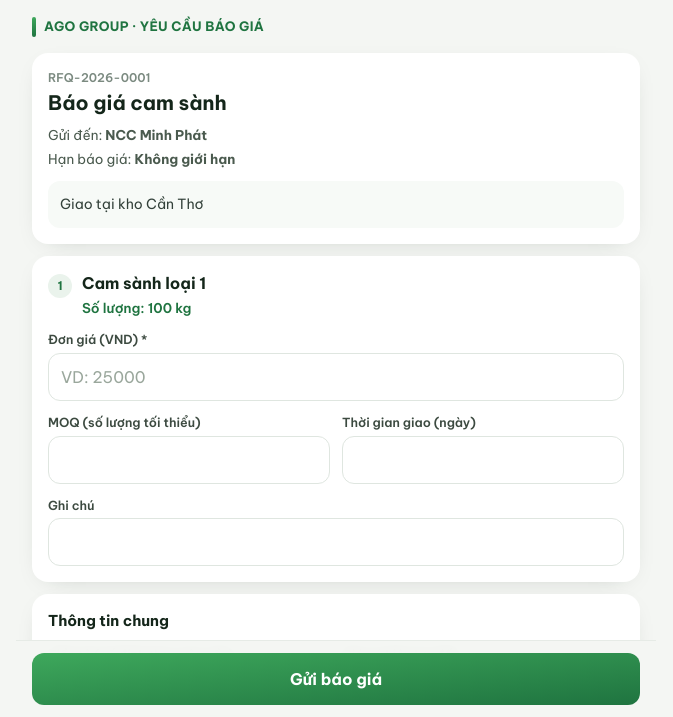
Test: PublicQuotePage › nhập giá, gửi thành công: POST đúng payload và hiện phiên bản
Check: the heading "Báo giá cam sành" is shown, box [48,90,227,115]
Step 1. Type "25000" into the field with placeholder "VD: 25000" → (336, 377), box [48,353,624,401]
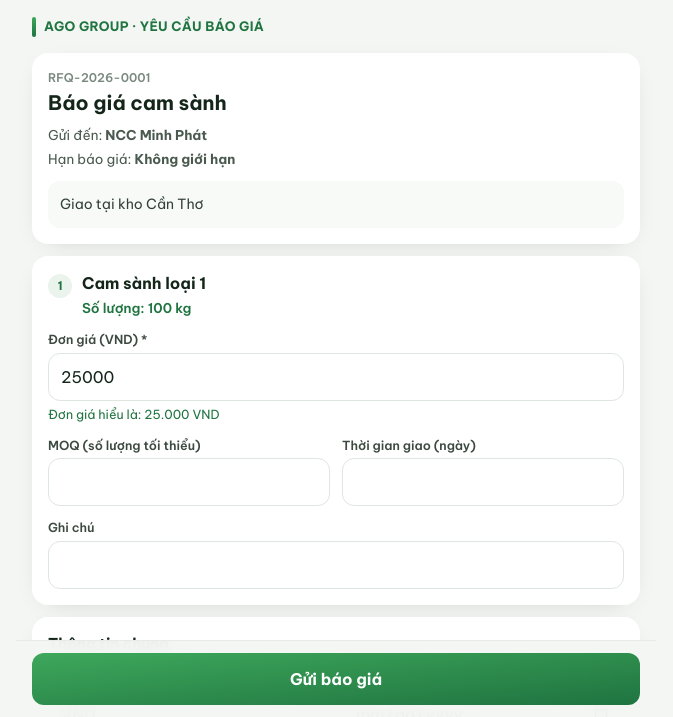
Step 2. Click the button "Gửi báo giá" → click(336, 679), box [32,653,640,705]
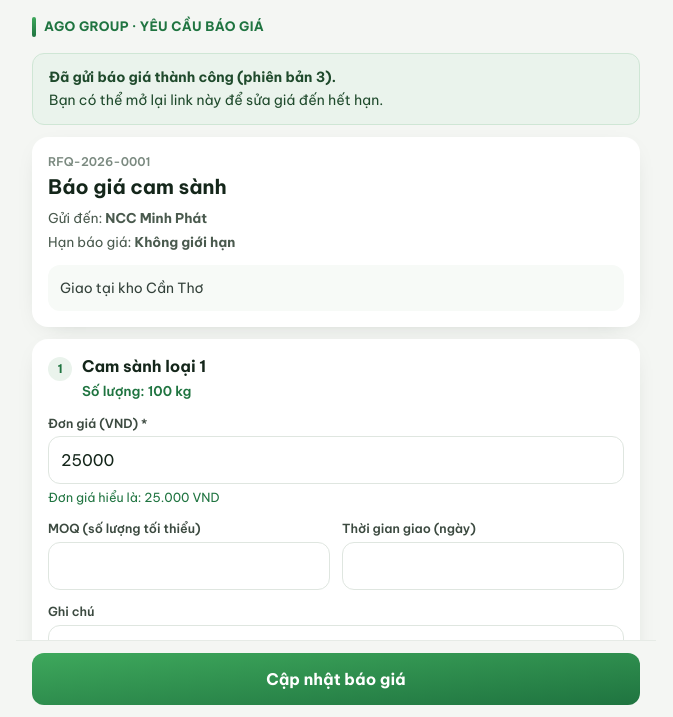
Check: the text "Đã gửi báo giá thành công (phiên bản 3)." is shown, box [49,68,336,86]
Check: the button "Cập nhật báo giá" is shown, box [32,653,640,705]
